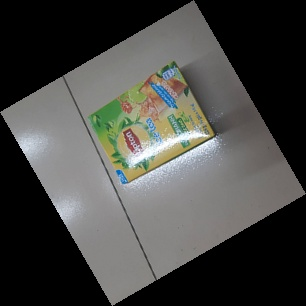LipTon: (86, 60, 216, 187)
